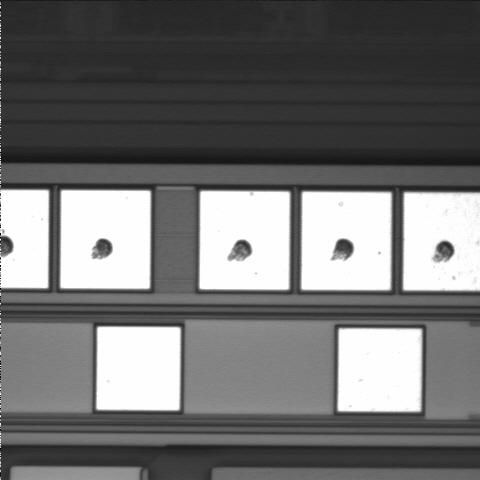pad: (60, 190, 150, 289), (200, 191, 290, 290), (301, 192, 391, 290), (97, 327, 180, 410), (338, 329, 421, 411)
